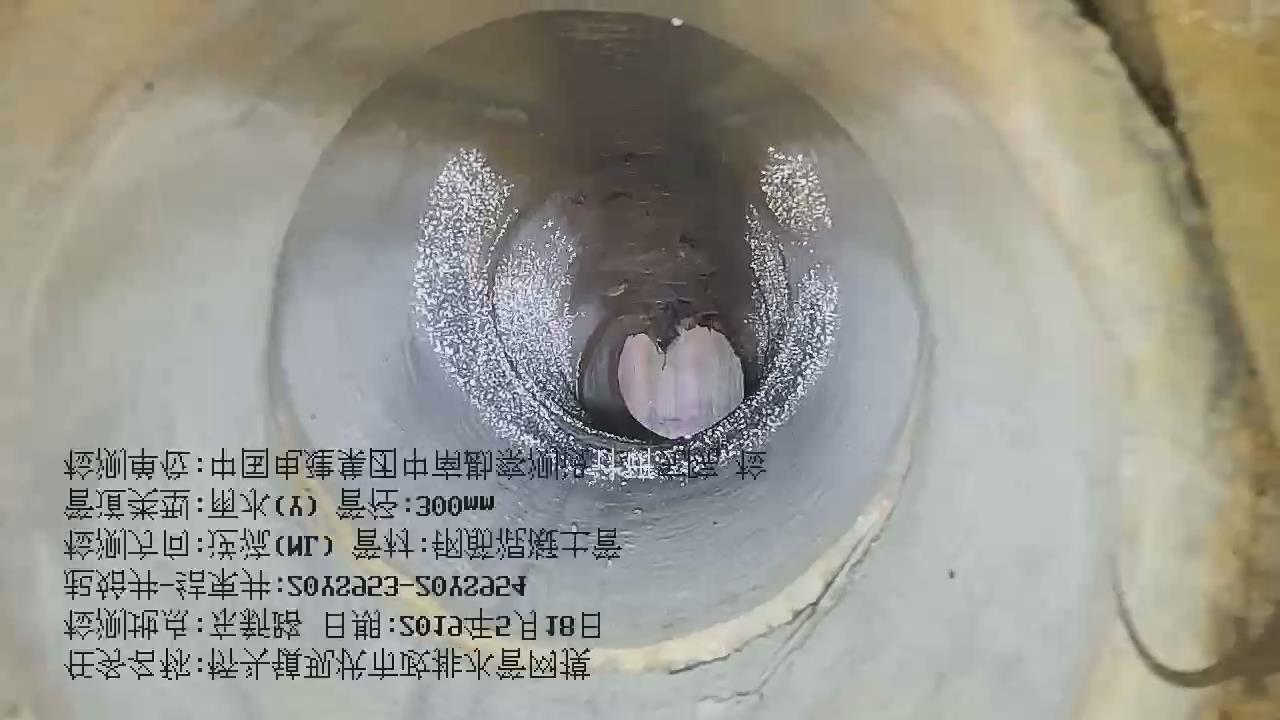CKTJ: (267, 299, 927, 677)
